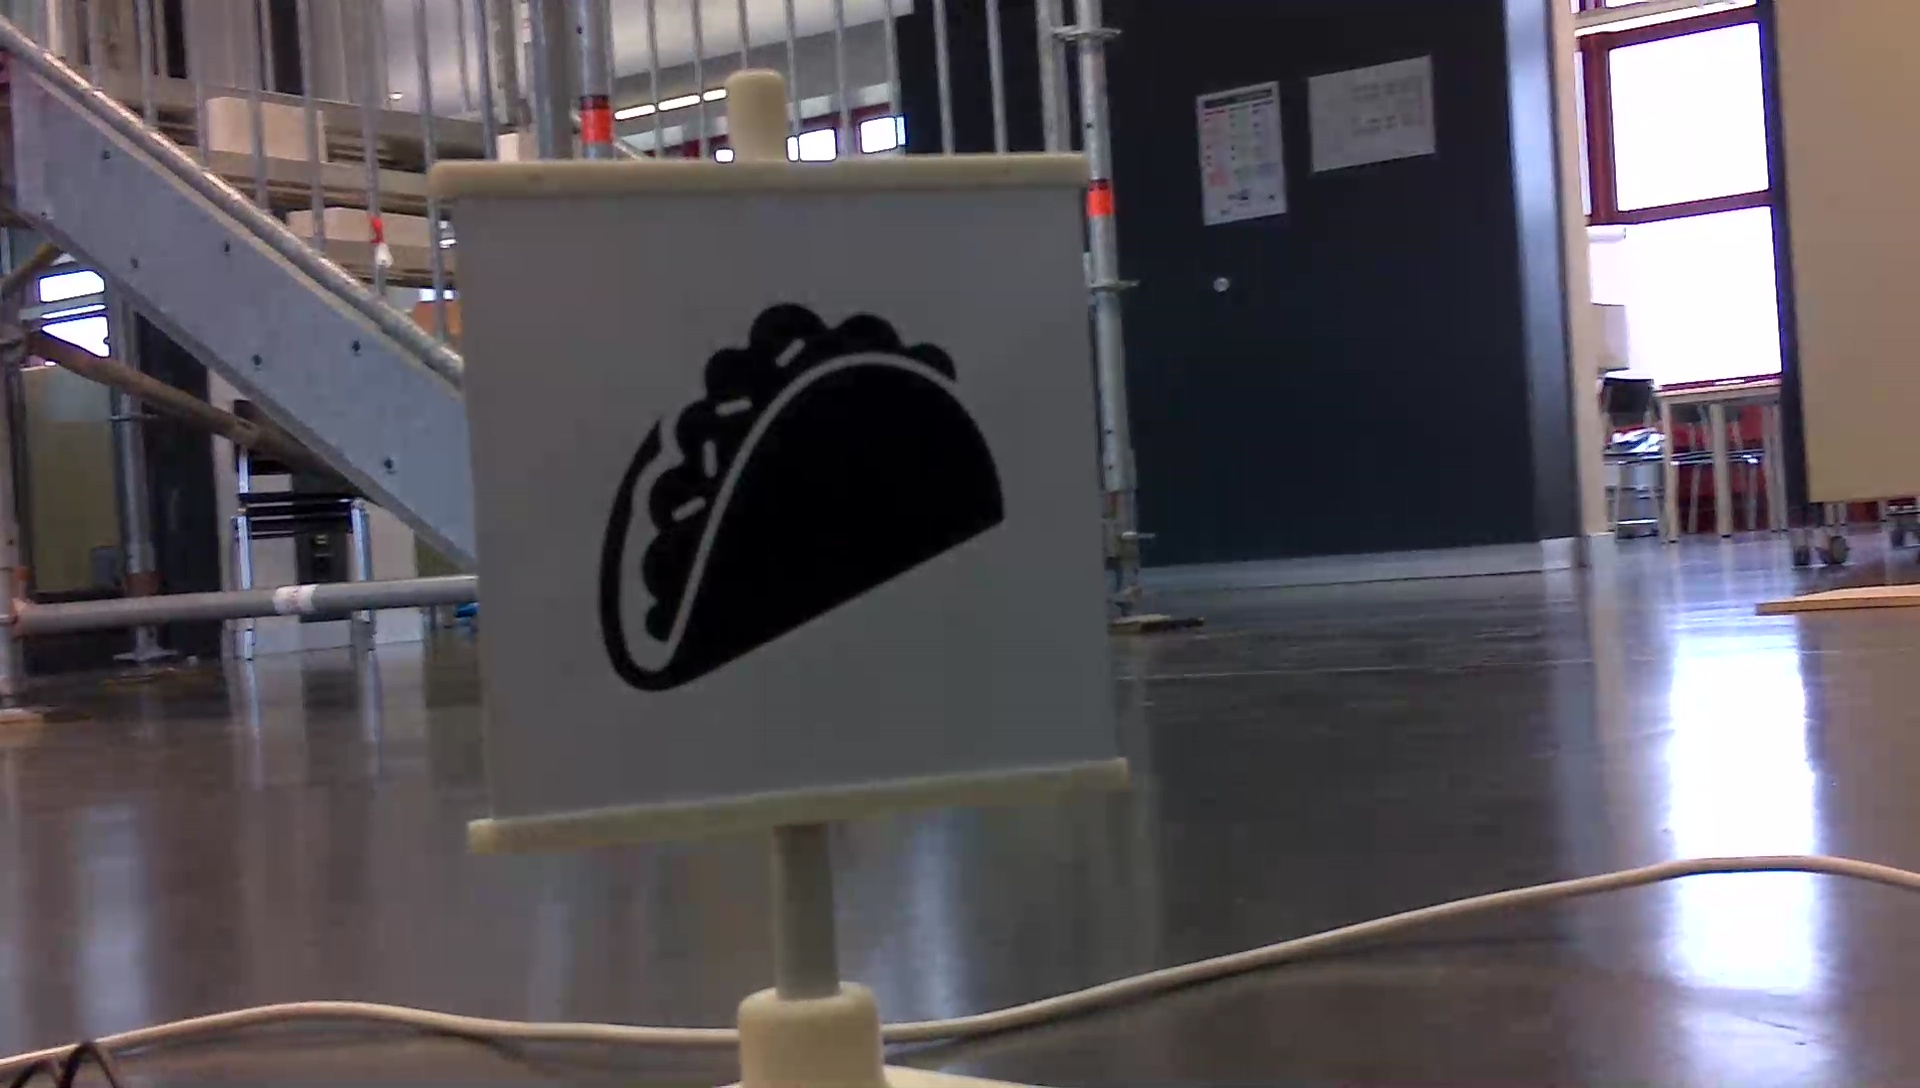taco: (584, 291, 1015, 700)
